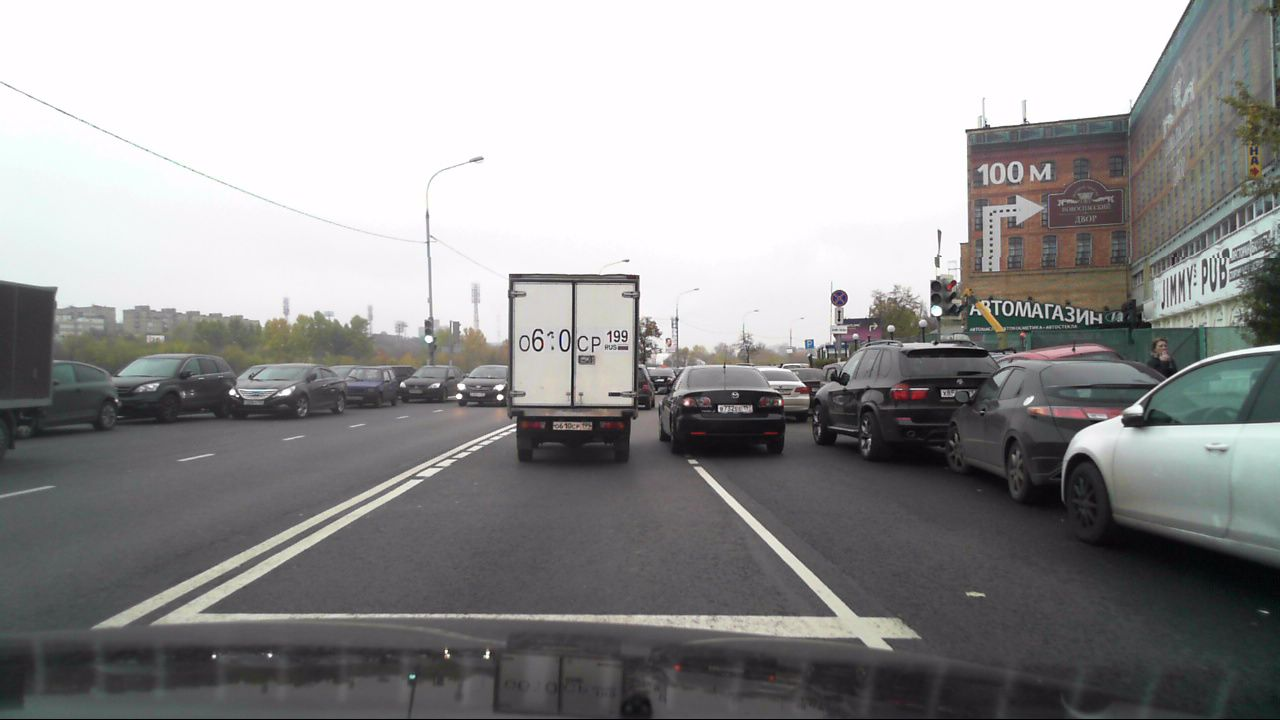No Parking: (829, 287, 848, 306)
